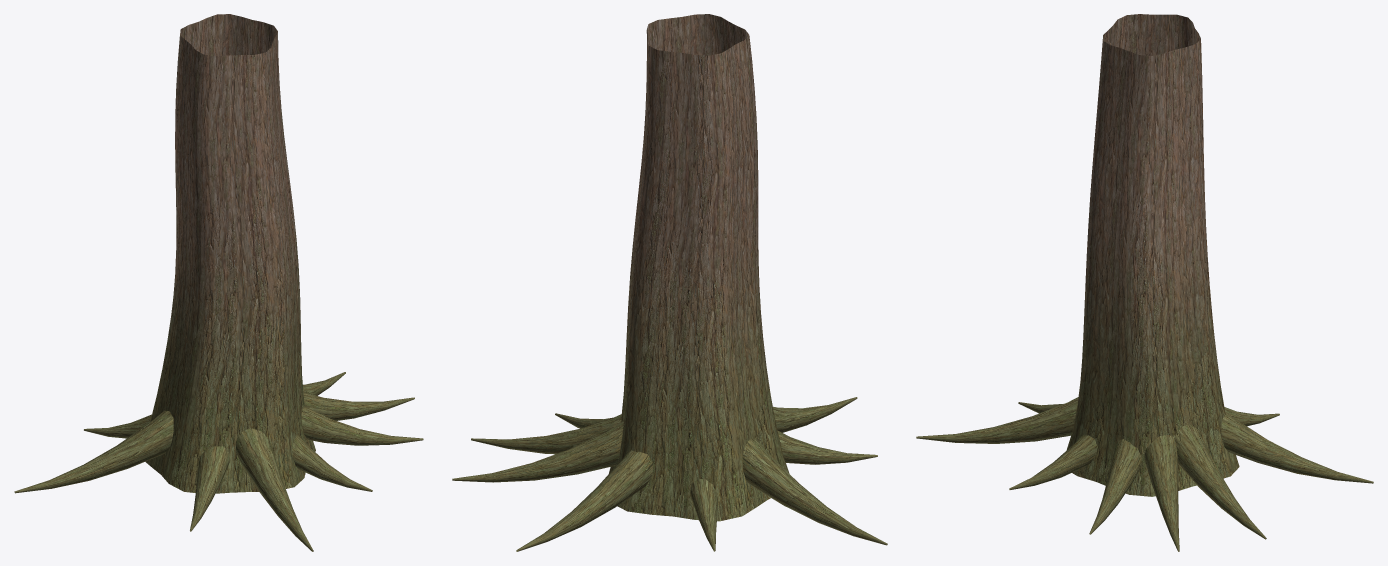
File: tree_2.glb
3 renders of one model, left to right at view 1: azimuth 30°, elevation 25°; view 2: azimuth 150°, elevation 25°; view 3: azimuth 270°, elevation 25°, orthographic. The views are drawn at different scales.
Size of the model in its own units: 3.92 by 4.02 by 3.92.
Materials: 1 (1 with a texture image).
